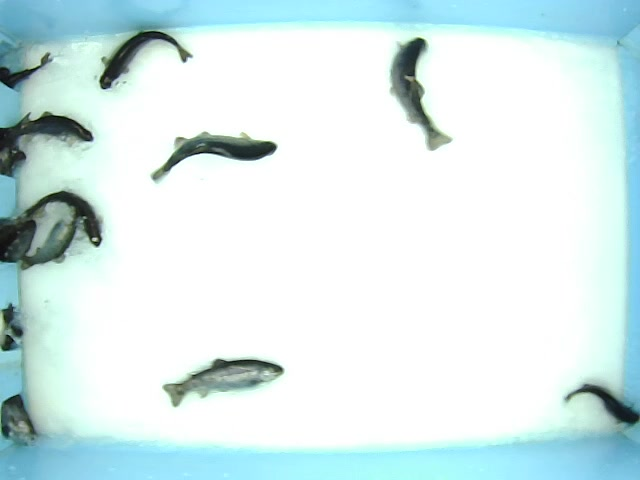fish: (388, 35, 453, 152), (150, 129, 278, 184), (160, 355, 284, 408), (96, 27, 195, 90), (20, 187, 105, 248), (18, 209, 78, 273), (562, 382, 640, 425), (6, 108, 95, 144)
